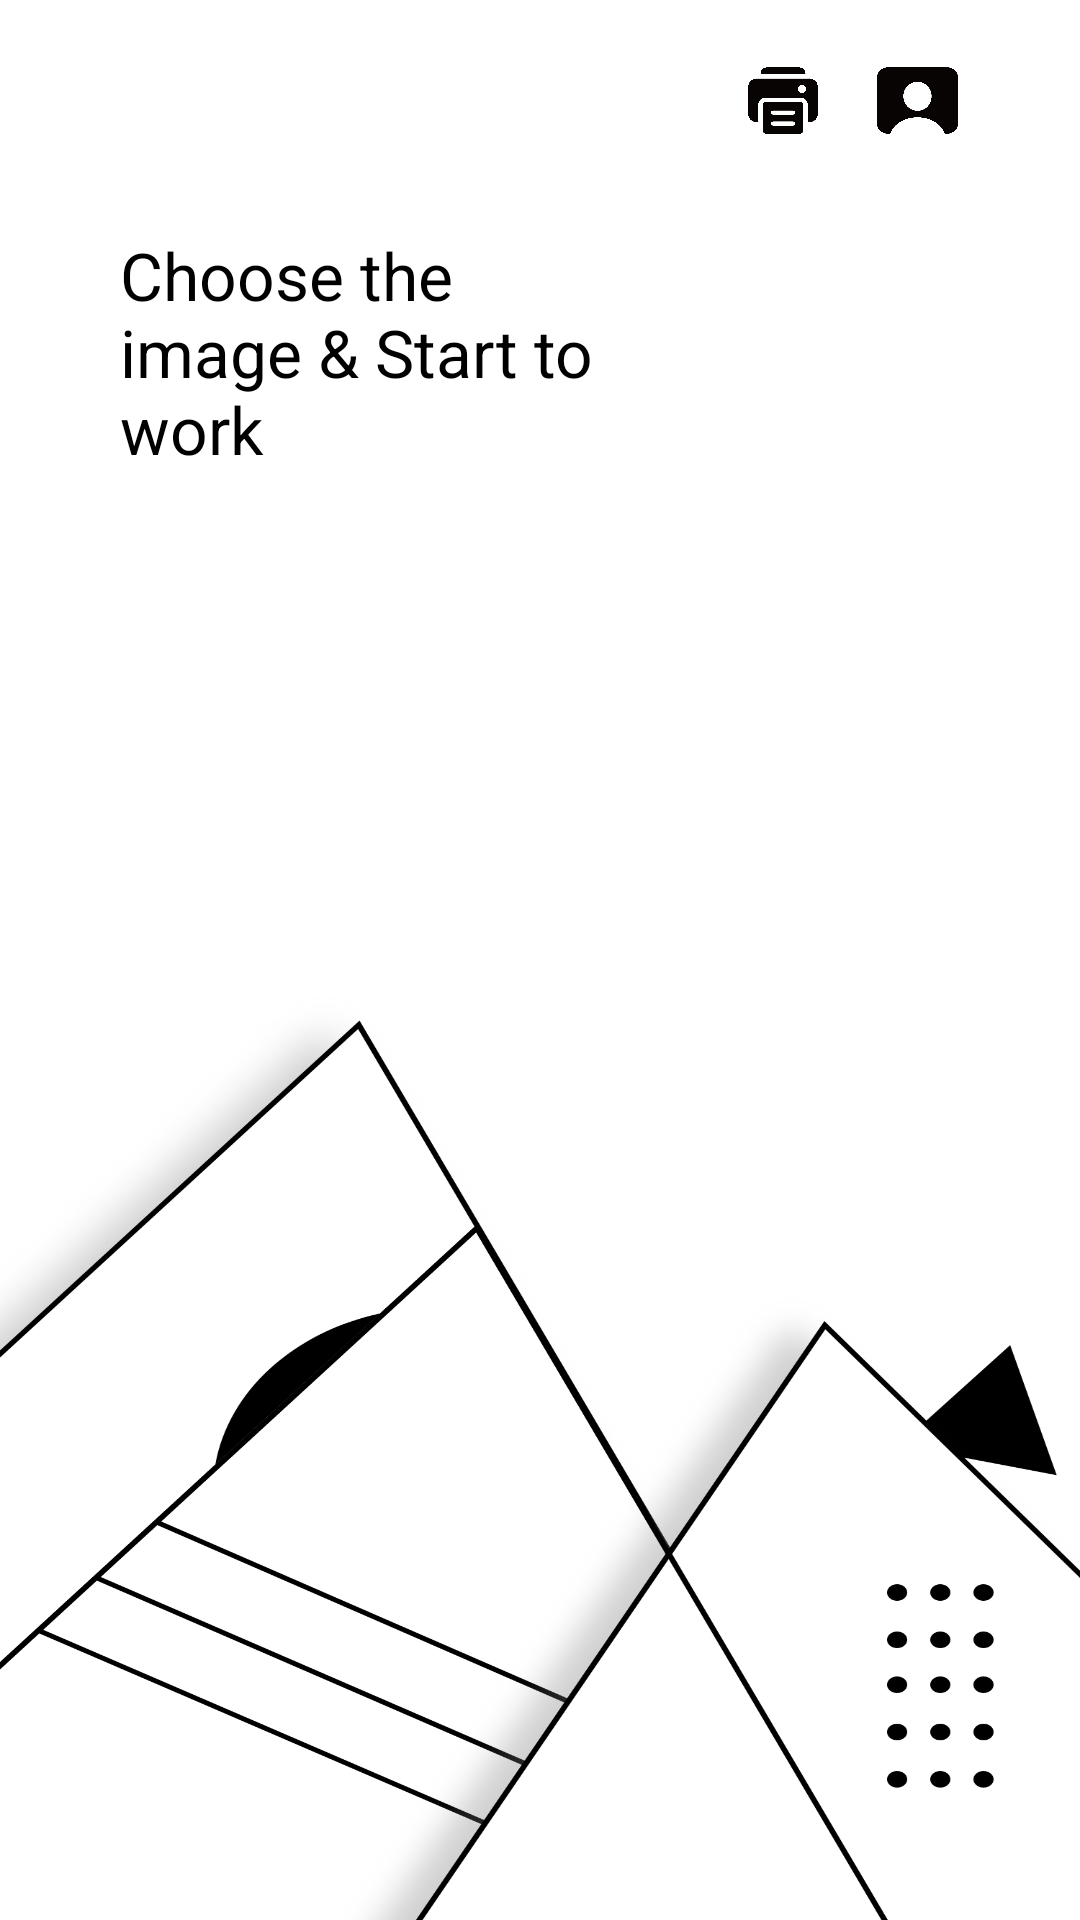

Icon bounding boxes for this 1080px x 1920px phone screenshot, format (x1,y1,x2,y2):
portfilo: (877,67,958,134)
printer: (748,67,818,134)
